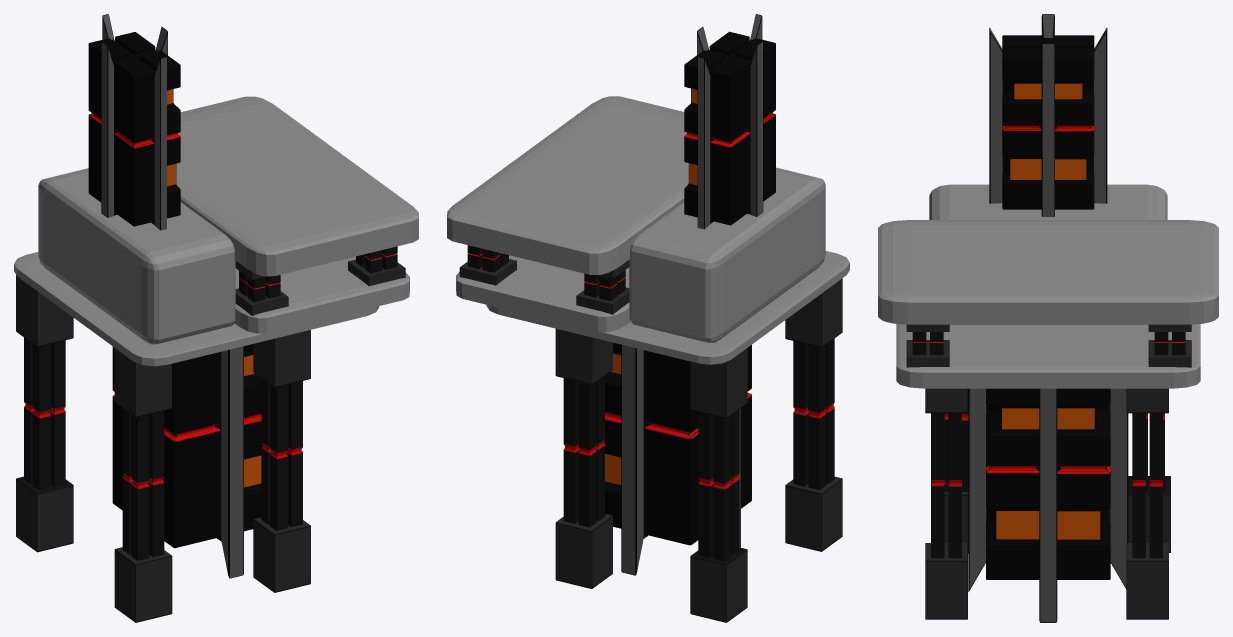
The model's file is Background Building 1.fbx.
3 renders of one model, left to right at view 1: azimuth 30°, elevation 25°; view 2: azimuth 150°, elevation 25°; view 3: azimuth 270°, elevation 25°, orthographic.
Parts seen in each view (by area): view 1: Platform, Pillars (×3), Base (×4); view 2: Platform, Pillars (×3), Base (×4); view 3: Platform, Base (×4), Pillars (×3).
Boxes of the visible parts, x1,y1,x2,y2 form: Platform: [14, 96, 418, 366]; Pillars (×3): [16, 246, 405, 622]; Base (×4): [88, 14, 262, 578]; Platform: [447, 96, 849, 364]; Pillars (×3): [459, 245, 842, 622]; Base (×4): [604, 14, 775, 575]; Platform: [878, 184, 1218, 388]; Base (×4): [968, 14, 1128, 622]; Pillars (×3): [906, 324, 1191, 619].
Size of the model in its own units: 8330 by 15783 by 9124.
